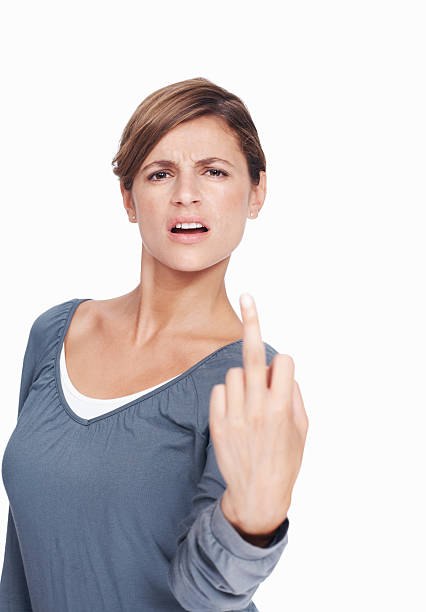insulting_gesture: (204, 283, 309, 519)
